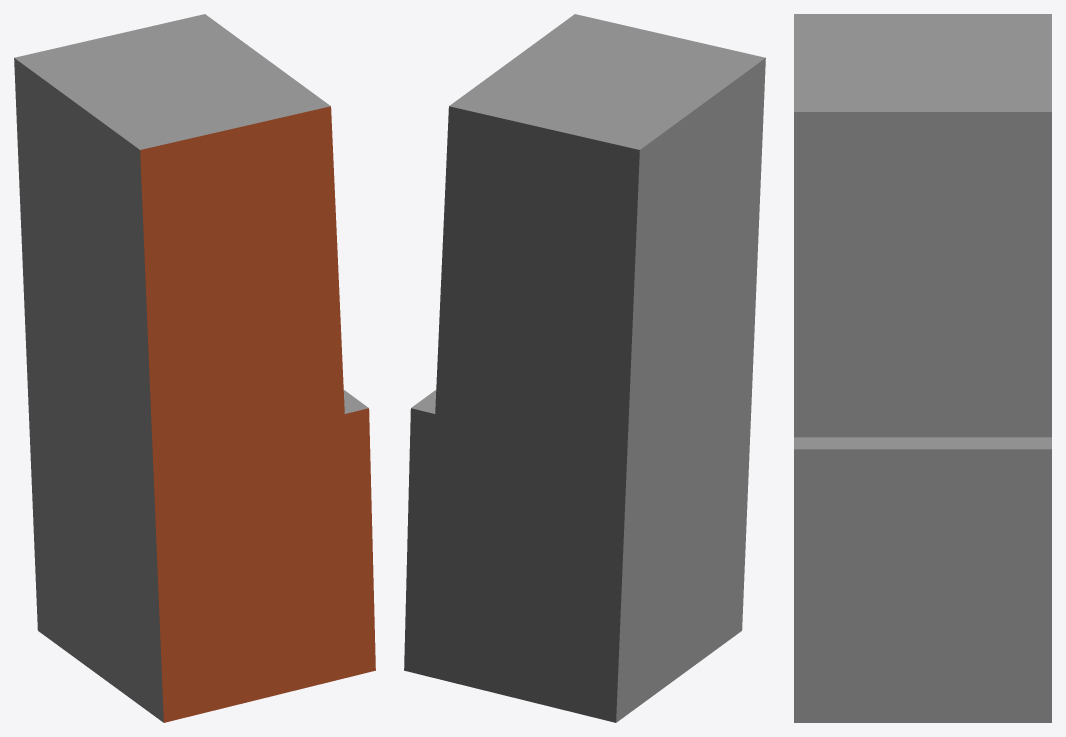
The model's file is construction_5311_assumed_A_Casa_h6m.obj.
The picture shows the model from 3 angles, left to right: view 1: azimuth 30°, elevation 25°; view 2: azimuth 150°, elevation 25°; view 3: azimuth 270°, elevation 25°; orthographic projection. The views are drawn at different scales.
Parts seen in each view (by area): view 1: construction_5311_assumed_A_Casa; view 2: construction_5311_assumed_A_Casa; view 3: construction_5311_assumed_A_Casa.
Boxes of the visible parts, <box> form: construction_5311_assumed_A_Casa: <box>14,14,375,722</box>; construction_5311_assumed_A_Casa: <box>404,14,765,722</box>; construction_5311_assumed_A_Casa: <box>794,14,1051,722</box>.
Bounding box in the file's own units: 6.48 × 15.2 × 6.
